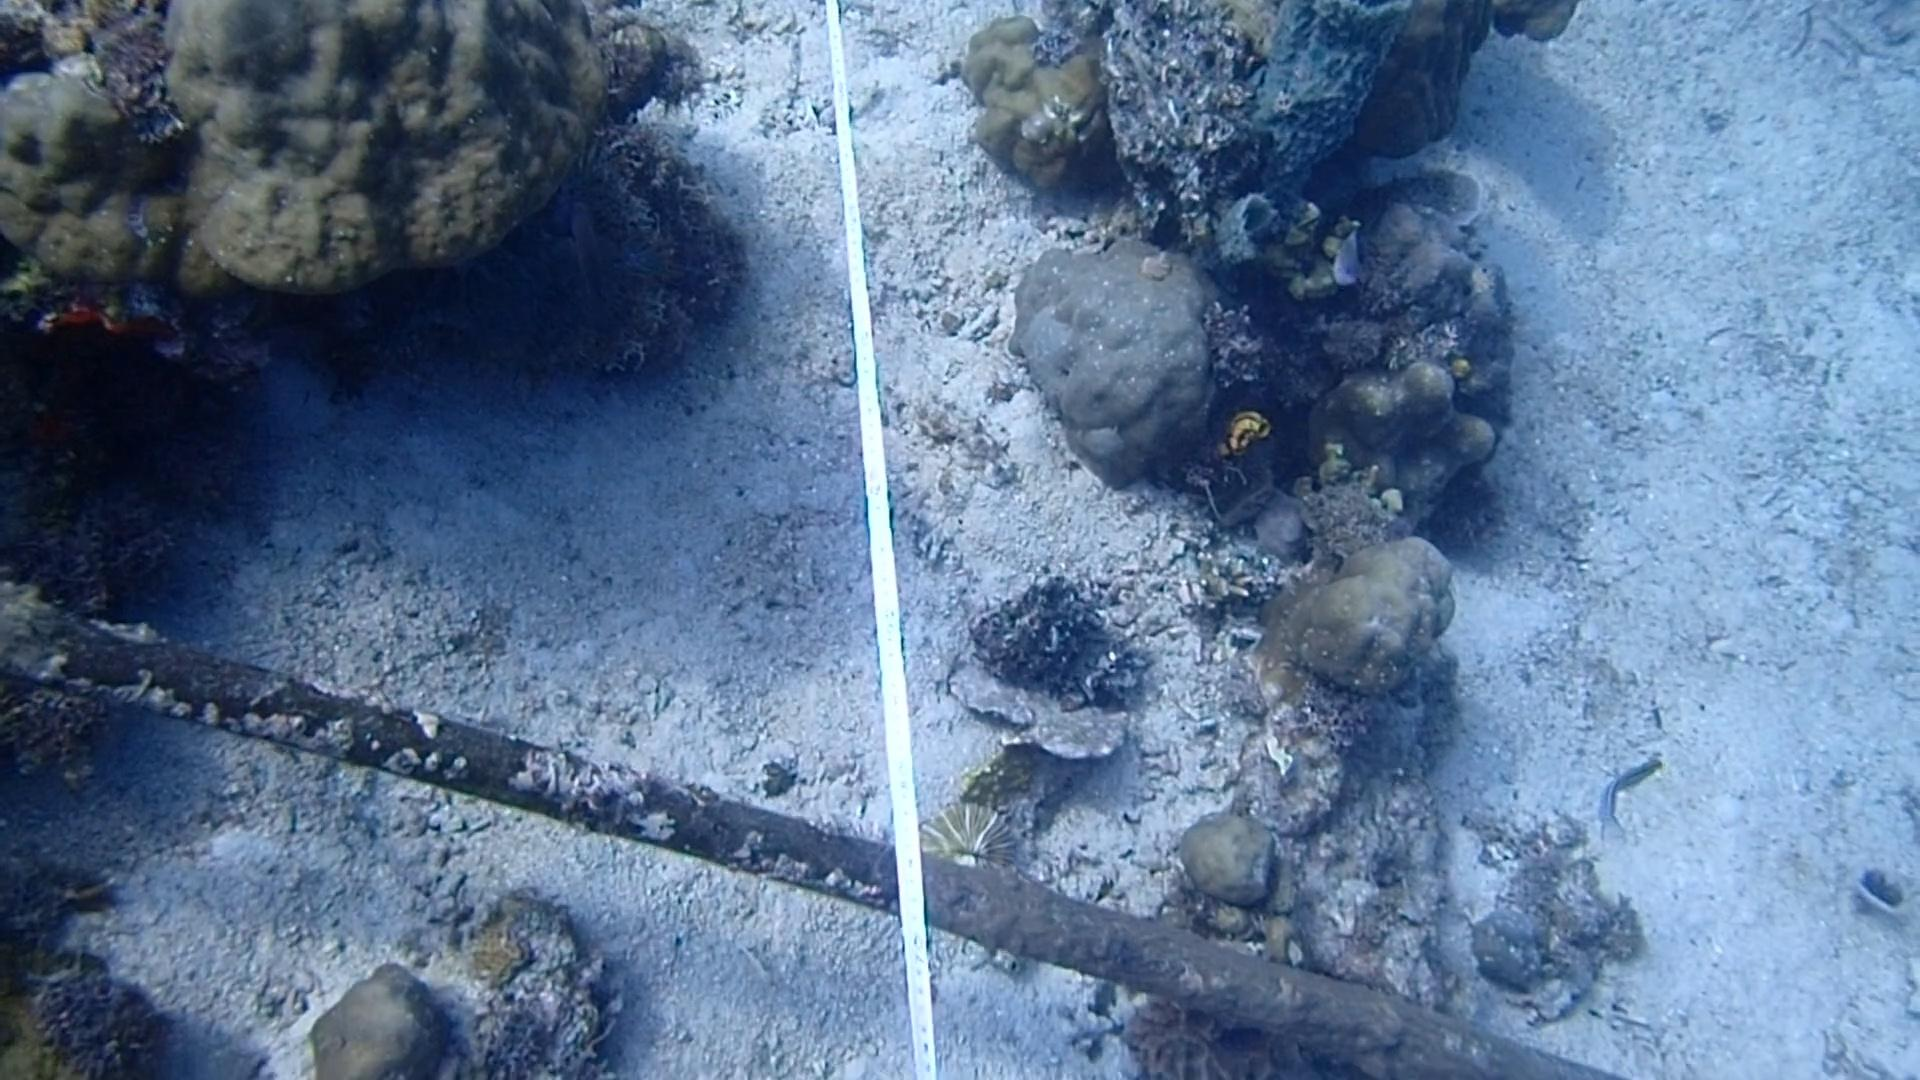Blue Nose Fish: (1323, 231, 1378, 291)
Dark Fish: (555, 189, 620, 313)
Striped Fish: (1576, 750, 1664, 853)
